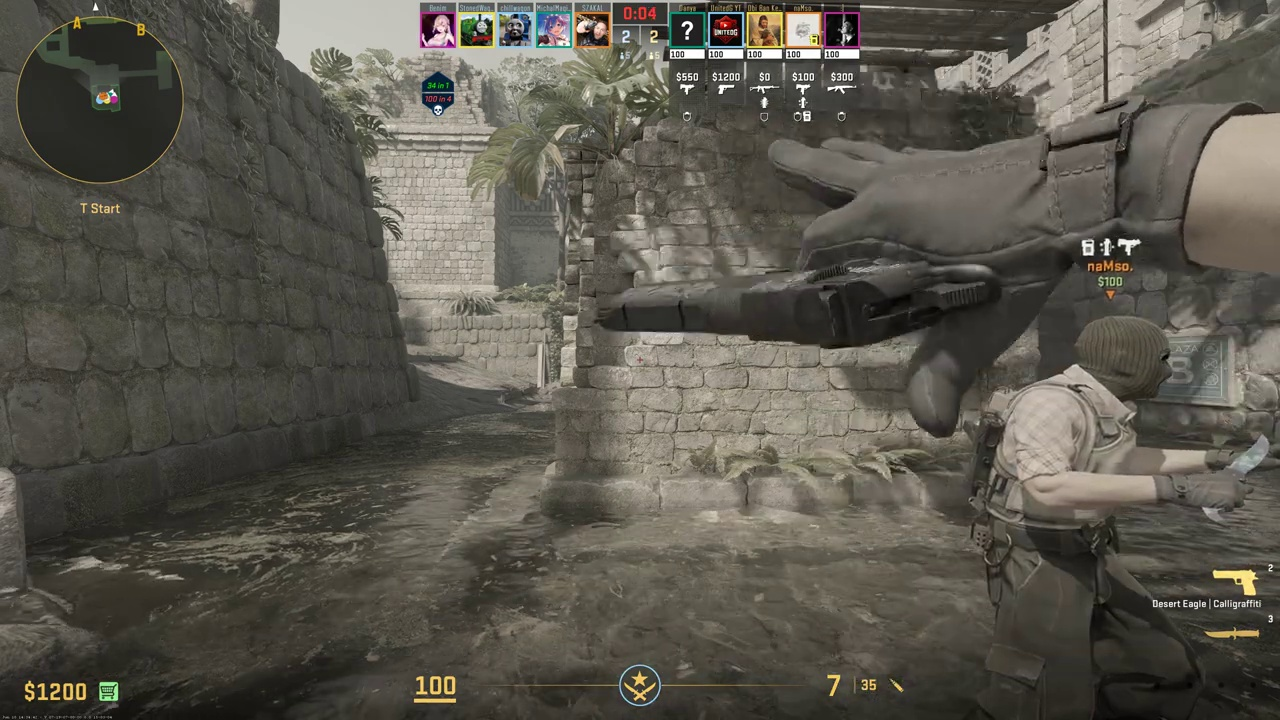Terrorist: (982, 315, 1193, 719)
